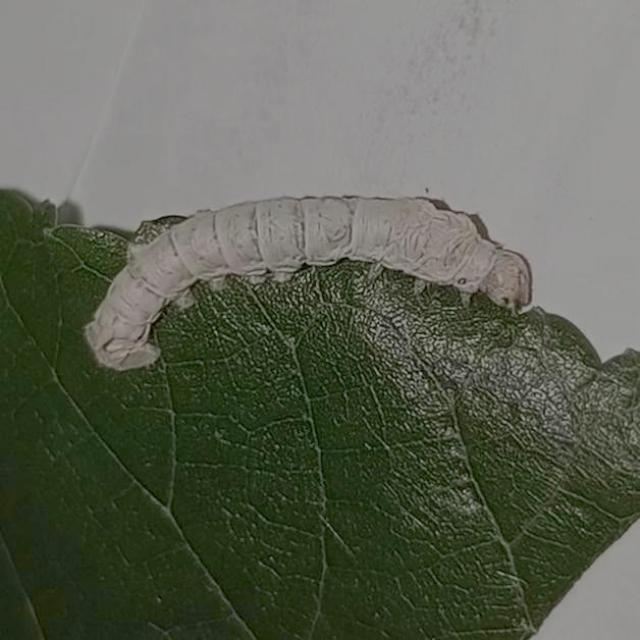Healthy: (67, 166, 567, 360)
